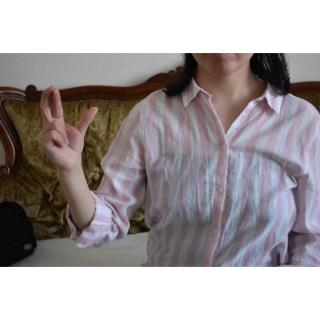DHELL: (36, 81, 102, 178)
